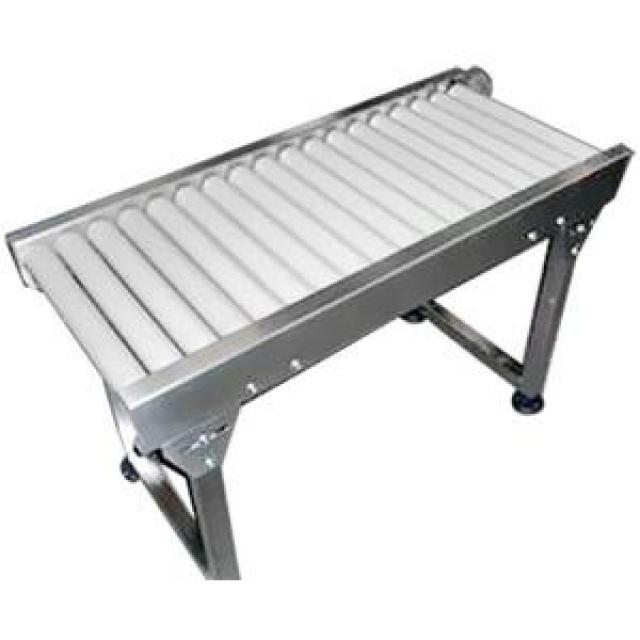Convoyeur: (0, 51, 640, 448)
